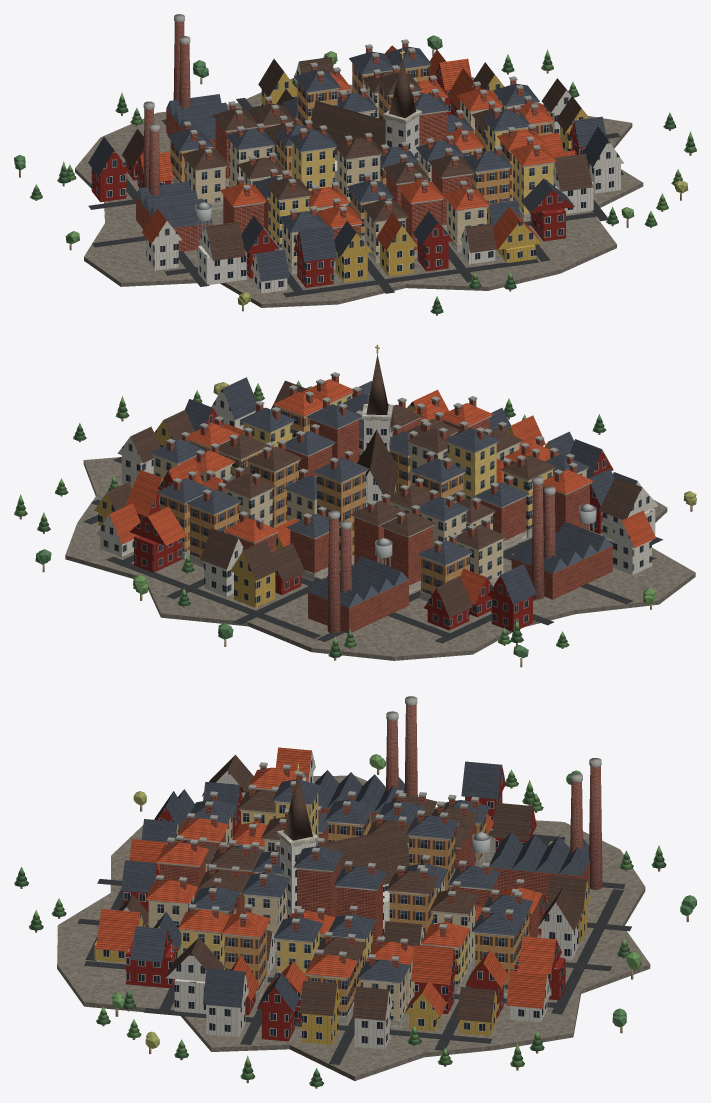
File: city_nordic_large.glb
3 renders of one model, top to bottom at view 1: azimuth 30°, elevation 25°; view 2: azimuth 150°, elevation 25°; view 3: azimuth 270°, elevation 25°, orthographic. The views are drawn at different scales.
Parts seen in each view (by area): view 1: city_nordic_large; view 2: city_nordic_large; view 3: city_nordic_large.
Boxes of the visible parts, x1=… form: city_nordic_large: x1=14, y1=14, x2=696, y2=315; city_nordic_large: x1=14, y1=344, x2=696, y2=667; city_nordic_large: x1=14, y1=696, x2=696, y2=1088.
Size of the model in its own units: 4.86 by 1.26 by 4.39.
Materials: 23 (15 with a texture image).
